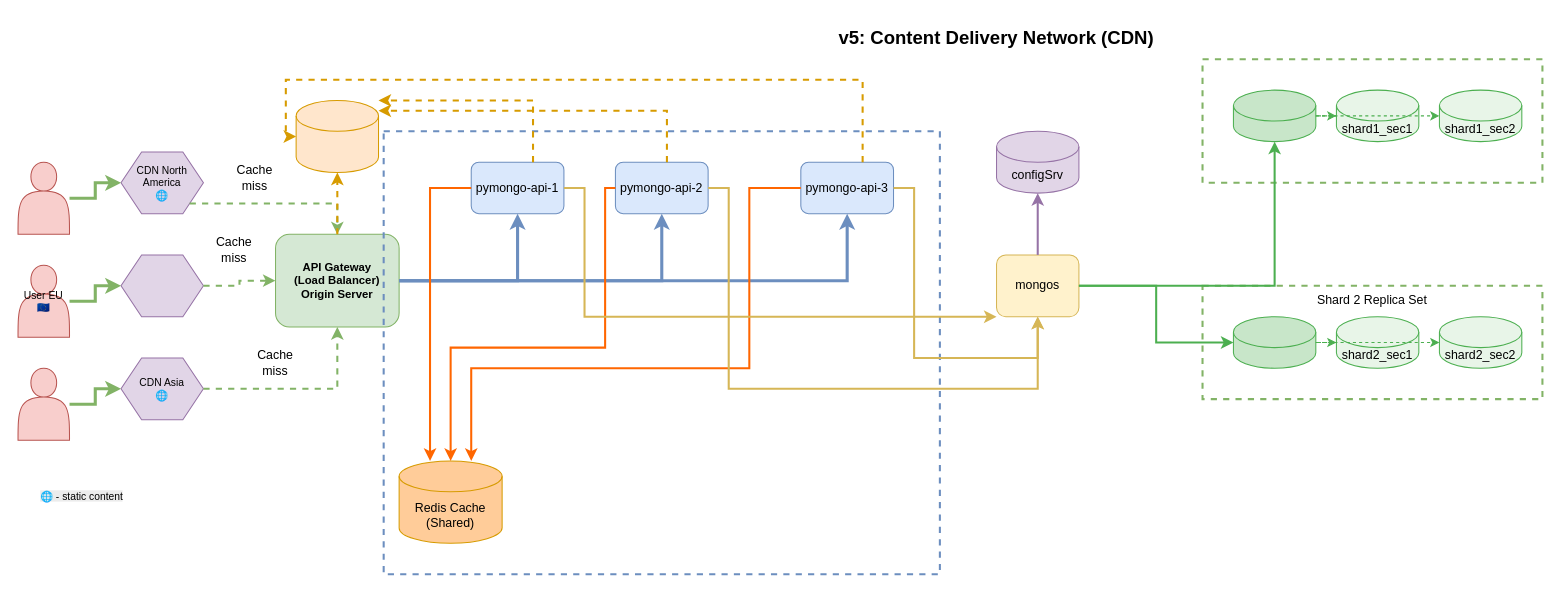
This 1561x592 diagram has some shape labels left out. The shapes that lost their labels are listed below. From the top down, each one's box as (x1, y1, x2, y2) in pixels, then its label:
(1232, 89, 1316, 142): shard1_primary
(1201, 58, 1543, 183): Shard 1 Replica Set
(295, 99, 379, 173): Consul Service Discovery
(17, 161, 70, 234): User NA 🇺🇸
(120, 254, 203, 317): CDN Europe 🌐
(382, 130, 940, 575): Scaled API Instances
(1232, 316, 1316, 368): shard2_primary
(17, 367, 70, 440): User Asia 🇯🇵
